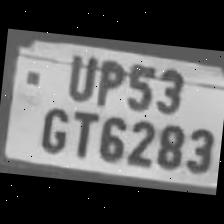2: (123, 113, 157, 169)
3: (150, 62, 188, 114), (180, 122, 216, 176)
5: (120, 59, 156, 110)
6: (94, 110, 130, 164)
8: (153, 116, 187, 172)
G: (34, 101, 72, 155)
P: (90, 54, 127, 106)
T: (66, 105, 100, 159)
U: (60, 50, 96, 102)
